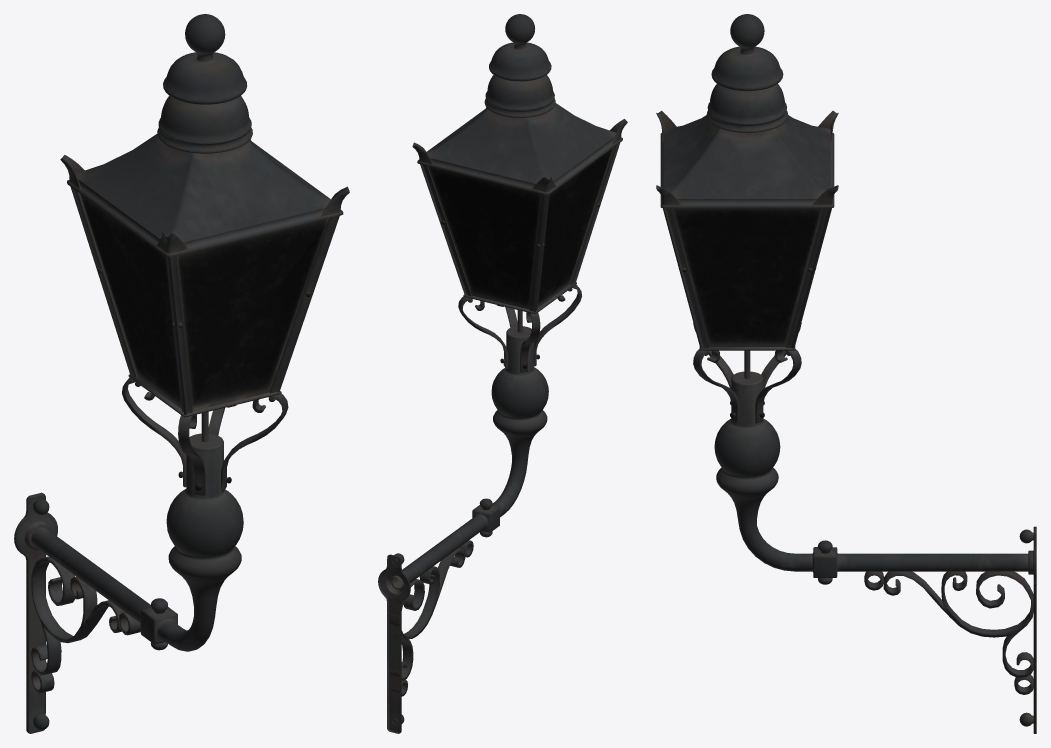
Rendered from ph_street_lamp_02.glb.
3 views of the same model, side by side, from view 1: azimuth 30°, elevation 25°; view 2: azimuth 150°, elevation 25°; view 3: azimuth 270°, elevation 25° (orthographic). The views are drawn at different scales.
Parts seen in each view (by area): view 1: street_lamp_02; view 2: street_lamp_02; view 3: street_lamp_02.
Boxes of the visible parts, box(x1,y1,x2,y2) form: street_lamp_02: box(14, 14, 349, 733); street_lamp_02: box(378, 14, 627, 733); street_lamp_02: box(656, 14, 1036, 733).
Size of the model in its own units: 0.3867 by 1.67 by 0.8069.
Materials: 3 (3 with a texture image).
